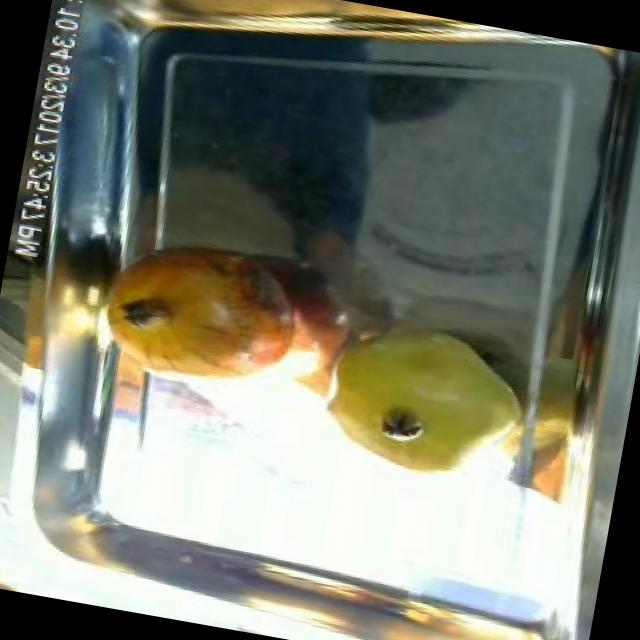fruit: (293, 294, 556, 505), (75, 216, 326, 410)
